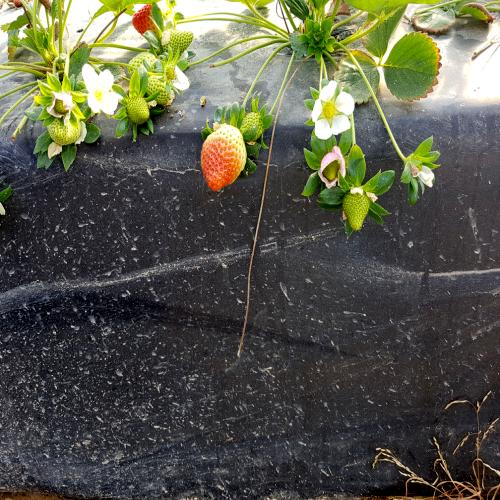partially-ripe: (199, 117, 247, 196)
